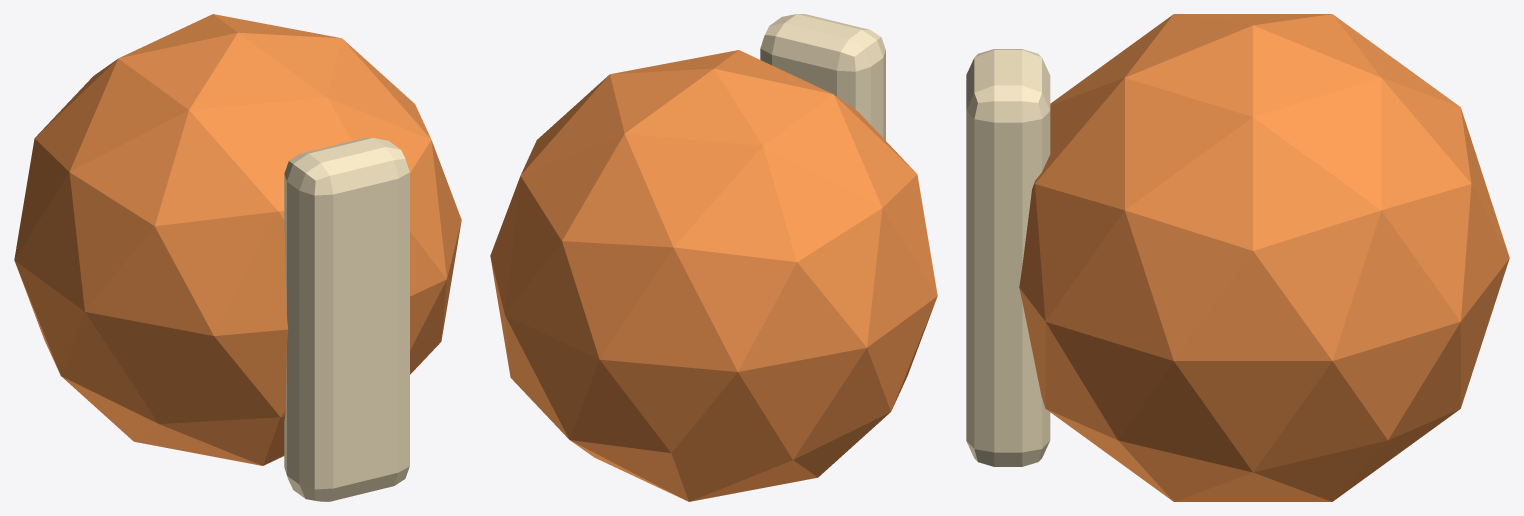
Rendered from pet-ball-cozy.glb.
3 renders of one model, left to right at view 1: azimuth 30°, elevation 25°; view 2: azimuth 150°, elevation 25°; view 3: azimuth 270°, elevation 25°, orthographic. The views are drawn at different scales.
Visible parts, largest first — view 1: PetBall, BallStripe; view 2: PetBall, BallStripe; view 3: PetBall, BallStripe.
Part boxes in pixels (left/top/right/bottom): PetBall: left=14, top=14, right=461, bottom=465; BallStripe: left=284, top=138, right=409, bottom=501; PetBall: left=490, top=50, right=937, bottom=501; BallStripe: left=760, top=14, right=885, bottom=140; PetBall: left=1019, top=14, right=1509, bottom=501; BallStripe: left=966, top=49, right=1050, bottom=466.
Size of the model in its own units: 0.2092 by 0.22 by 0.233.
